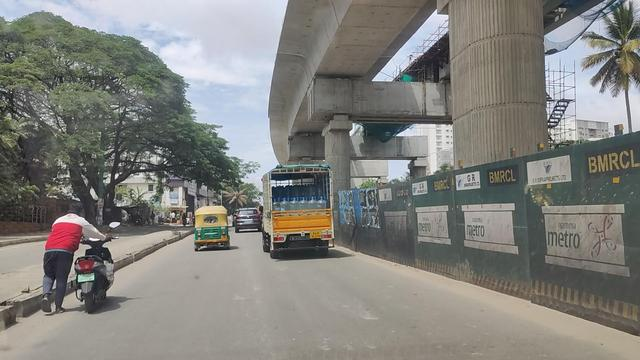HMV: (265, 167, 335, 253)
LMV: (194, 204, 228, 251)
